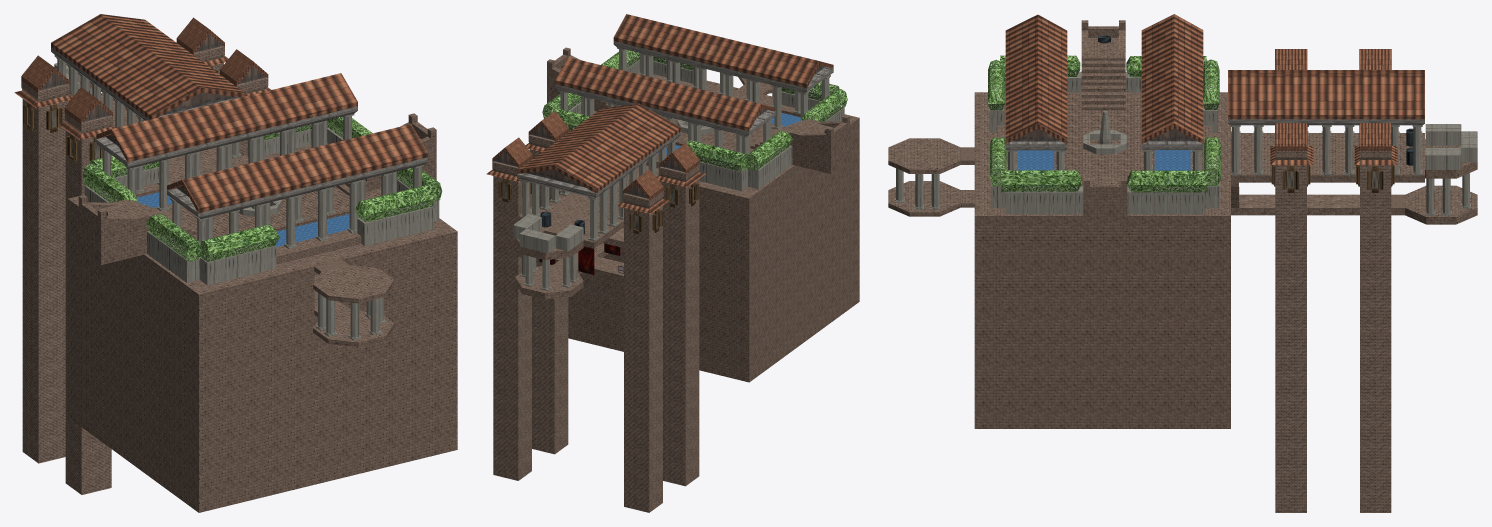
Rendered from limbo.gltf.
3 views of the same model, side by side, from view 1: azimuth 30°, elevation 25°; view 2: azimuth 150°, elevation 25°; view 3: azimuth 270°, elevation 25° (orthographic). The views are drawn at different scales.
Visible parts, largest first — view 1: entity0_brush594, entity0_brush677, entity0_brush678, entity0_brush89, entity0_brush94, entity0_brush316, entity0_brush490, entity0_brush855, entity0_brush493, entity0_brush203, entity0_brush315, entity0_brush848 (+33 smaller); view 2: entity0_brush594, entity0_brush90, entity0_brush95, entity0_brush609, entity0_brush316, entity0_brush610, entity0_brush489, entity0_brush393, entity0_brush551, entity0_brush549, entity0_brush487, entity0_brush455 (+37 smaller); view 3: entity0_brush593, entity0_brush315, entity0_brush549, entity0_brush459, entity0_brush460, entity0_brush222, entity0_brush555, entity0_brush89, entity0_brush94, entity0_brush90, entity0_brush95, entity0_brush850 (+24 smaller).
Boxes of the visible parts, left/top/right/bottom form: entity0_brush594: left=67, top=197, right=204, bottom=512; entity0_brush677: left=204, top=272, right=314, bottom=511; entity0_brush678: left=340, top=239, right=451, bottom=477; entity0_brush89: left=111, top=73, right=357, bottom=162; entity0_brush94: left=182, top=124, right=427, bottom=212; entity0_brush316: left=51, top=14, right=201, bottom=119; entity0_brush490: left=32, top=128, right=50, bottom=463; entity0_brush855: left=314, top=336, right=342, bottom=484; entity0_brush493: left=56, top=127, right=65, bottom=458; entity0_brush203: left=78, top=199, right=149, bottom=264; entity0_brush315: left=101, top=14, right=245, bottom=97; entity0_brush848: left=313, top=265, right=394, bottom=303; entity0_brush594: left=744, top=116, right=859, bottom=382; entity0_brush90: left=555, top=57, right=761, bottom=131; entity0_brush95: left=613, top=14, right=819, bottom=87; entity0_brush609: left=568, top=247, right=744, bottom=380; entity0_brush316: left=554, top=103, right=680, bottom=193; entity0_brush610: left=699, top=223, right=744, bottom=370; entity0_brush489: left=639, top=230, right=654, bottom=512; entity0_brush393: left=675, top=203, right=690, bottom=486; entity0_brush551: left=508, top=198, right=523, bottom=480; entity0_brush549: left=493, top=195, right=503, bottom=477; entity0_brush487: left=624, top=226, right=633, bottom=508; entity0_brush455: left=545, top=187, right=560, bottom=454; entity0_brush593: left=974, top=213, right=1230, bottom=428; entity0_brush315: left=1228, top=77, right=1424, bottom=119; entity0_brush549: left=1378, top=188, right=1391, bottom=512; entity0_brush459: left=1294, top=188, right=1306, bottom=512; entity0_brush460: left=1275, top=188, right=1287, bottom=512; entity0_brush222: left=1231, top=133, right=1424, bottom=182; entity0_brush555: left=1360, top=188, right=1371, bottom=512; entity0_brush89: left=1141, top=14, right=1174, bottom=143; entity0_brush94: left=1005, top=14, right=1037, bottom=143; entity0_brush90: left=1174, top=14, right=1203, bottom=143; entity0_brush95: left=1038, top=14, right=1067, bottom=143; entity0_brush850: left=1054, top=125, right=1154, bottom=167.
Size of the model in its own units: 46.17 by 53.67 by 71.67.
